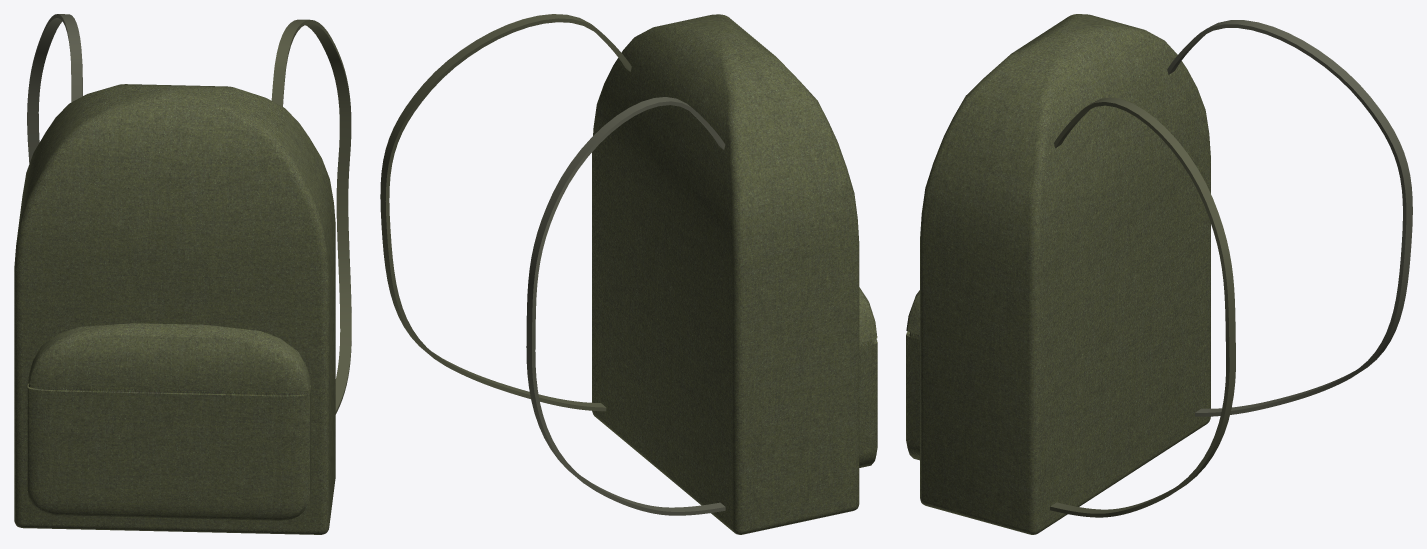
File: backpack.fbx
The picture shows the model from 3 angles, left to right: view 1: azimuth 30°, elevation 25°; view 2: azimuth 150°, elevation 25°; view 3: azimuth 270°, elevation 25°; orthographic projection. The views are drawn at different scales.
Visible parts, largest first — view 1: MOCHILA.001; view 2: MOCHILA.001; view 3: MOCHILA.001.
Part boxes in pixels (<box>): MOCHILA.001: <box>14,14,351,534</box>; MOCHILA.001: <box>380,14,877,534</box>; MOCHILA.001: <box>906,14,1412,534</box>.
Bounding box in the file's own units: 35.38 × 35.22 × 37.26.
Materials: 1 (1 with a texture image).
